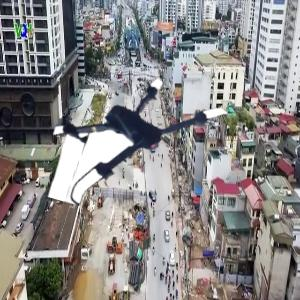drone: (56, 51, 227, 222)
